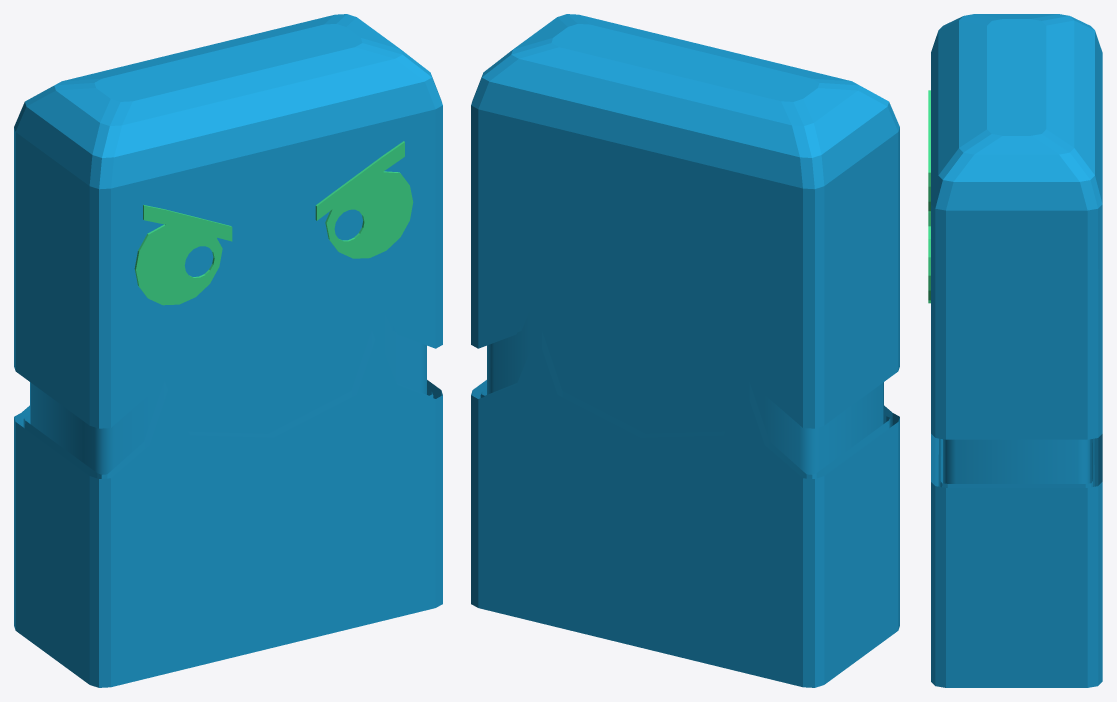
File: Stamp.fbx
The picture shows the model from 3 angles, left to right: view 1: azimuth 30°, elevation 25°; view 2: azimuth 150°, elevation 25°; view 3: azimuth 270°, elevation 25°; orthographic projection. The views are drawn at different scales.
Parts seen in each view (by area): view 1: Stamp_Body, Inner_Stamp, Stamp_Eyes; view 2: Stamp_Body, Inner_Stamp; view 3: Stamp_Body, Inner_Stamp, Stamp_Eyes.
Boxes of the visible parts, x1,y1,x2,y2 form: Stamp_Body: (14,14,442,687); Inner_Stamp: (30,289,426,474); Stamp_Eyes: (134,141,413,305); Stamp_Body: (471,14,899,687); Inner_Stamp: (487,289,883,474); Stamp_Body: (931,14,1102,687); Inner_Stamp: (943,439,1090,483); Stamp_Eyes: (928,90,930,303).
Bounding box in the file's own units: 200 × 300 × 89.55.
